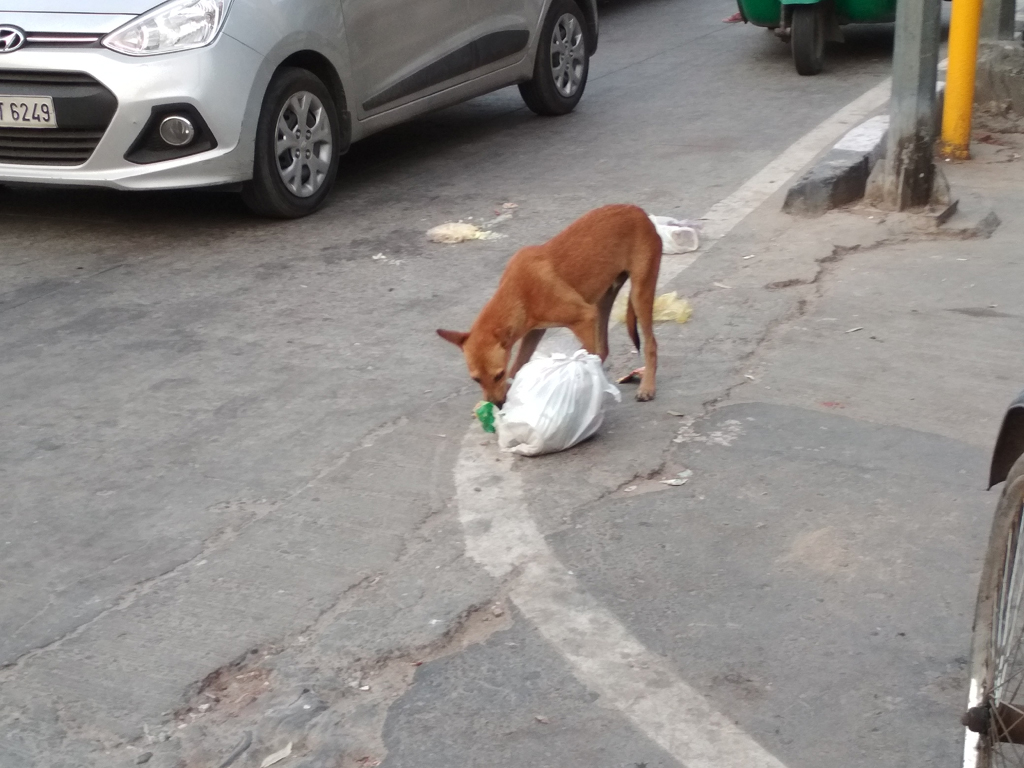dog: (437, 204, 660, 409)
